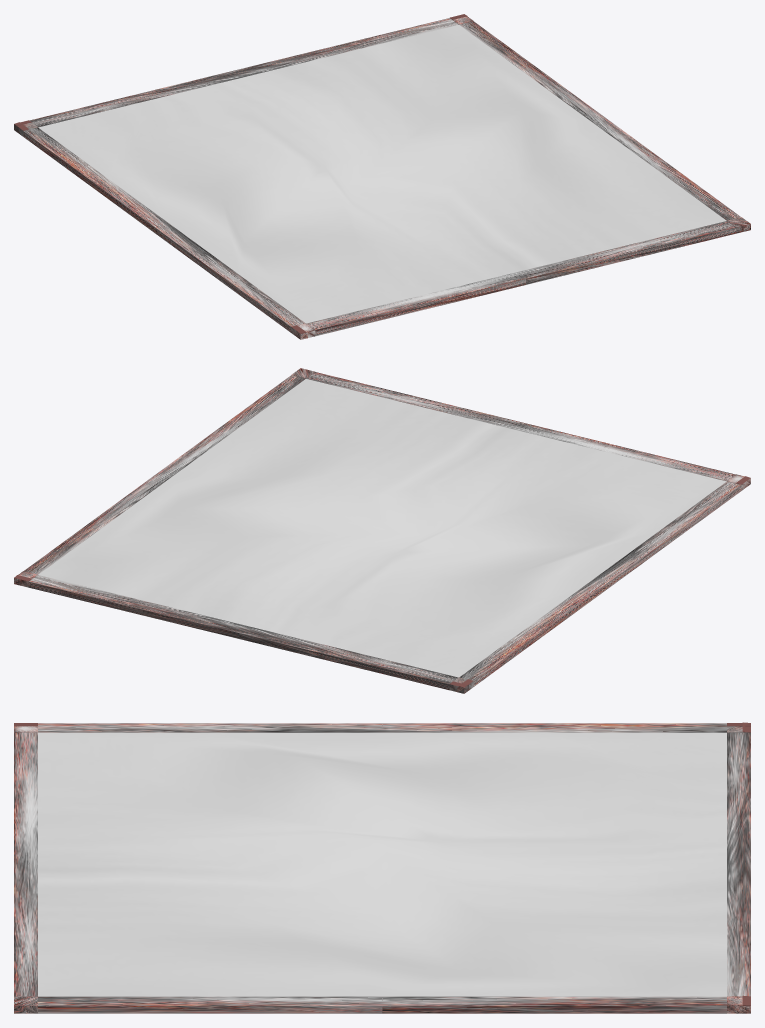
Rendered from 4x4glassdoor_wtf.obj.
The picture shows the model from 3 angles, top to bottom: view 1: azimuth 30°, elevation 25°; view 2: azimuth 150°, elevation 25°; view 3: azimuth 270°, elevation 25°; orthographic projection. The views are drawn at different scales.
Parts seen in each view (by area): view 1: group1, group2; view 2: group1, group2; view 3: group1, group2.
Boxes of the visible parts, bbox=[...] form: group1: bbox=[38, 25, 726, 323]; group2: bbox=[14, 14, 750, 339]; group1: bbox=[38, 379, 726, 677]; group2: bbox=[14, 368, 750, 693]; group1: bbox=[38, 732, 726, 996]; group2: bbox=[14, 722, 750, 1013].
Bounding box in the file's own units: 599 × 8.5 × 660.
